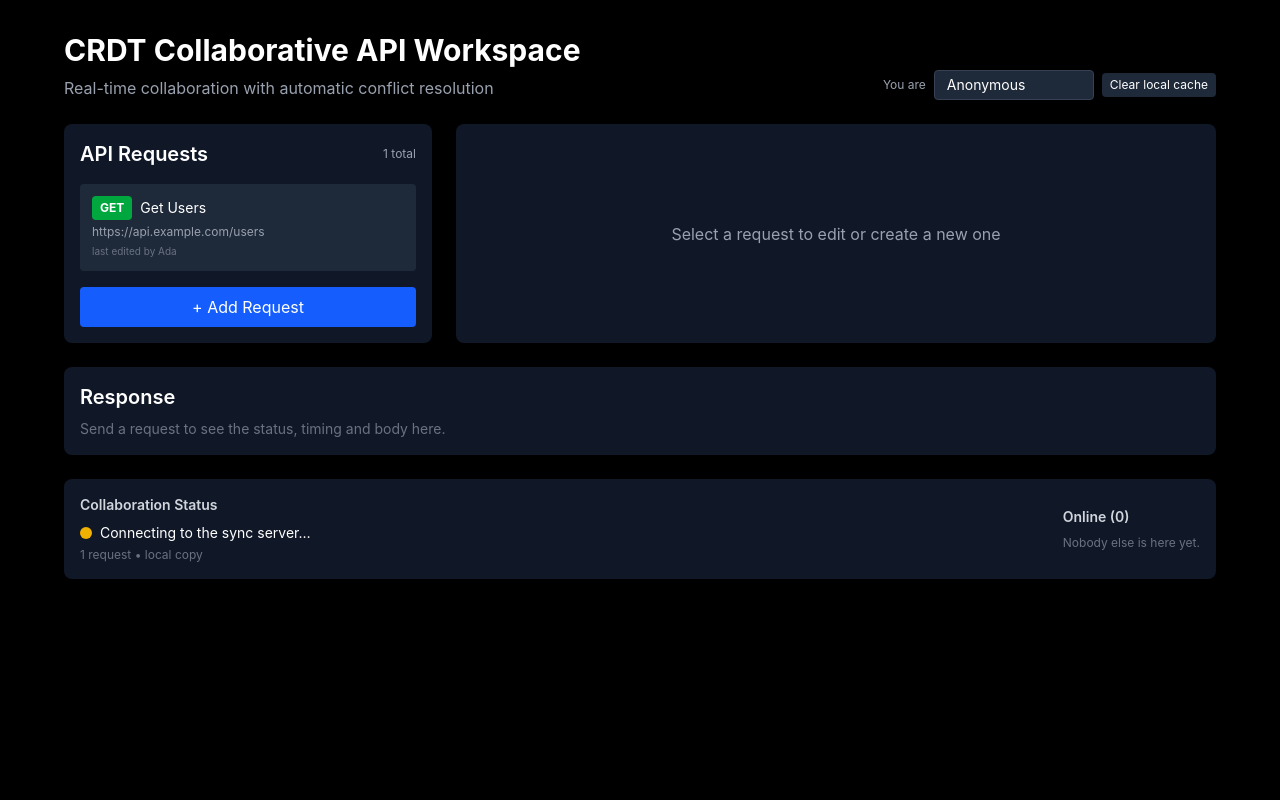
Test: App › clears the offline cache after confirmation
Click the button "Clear local cache".
click(1159, 85)  # box [1102,73,1216,97]
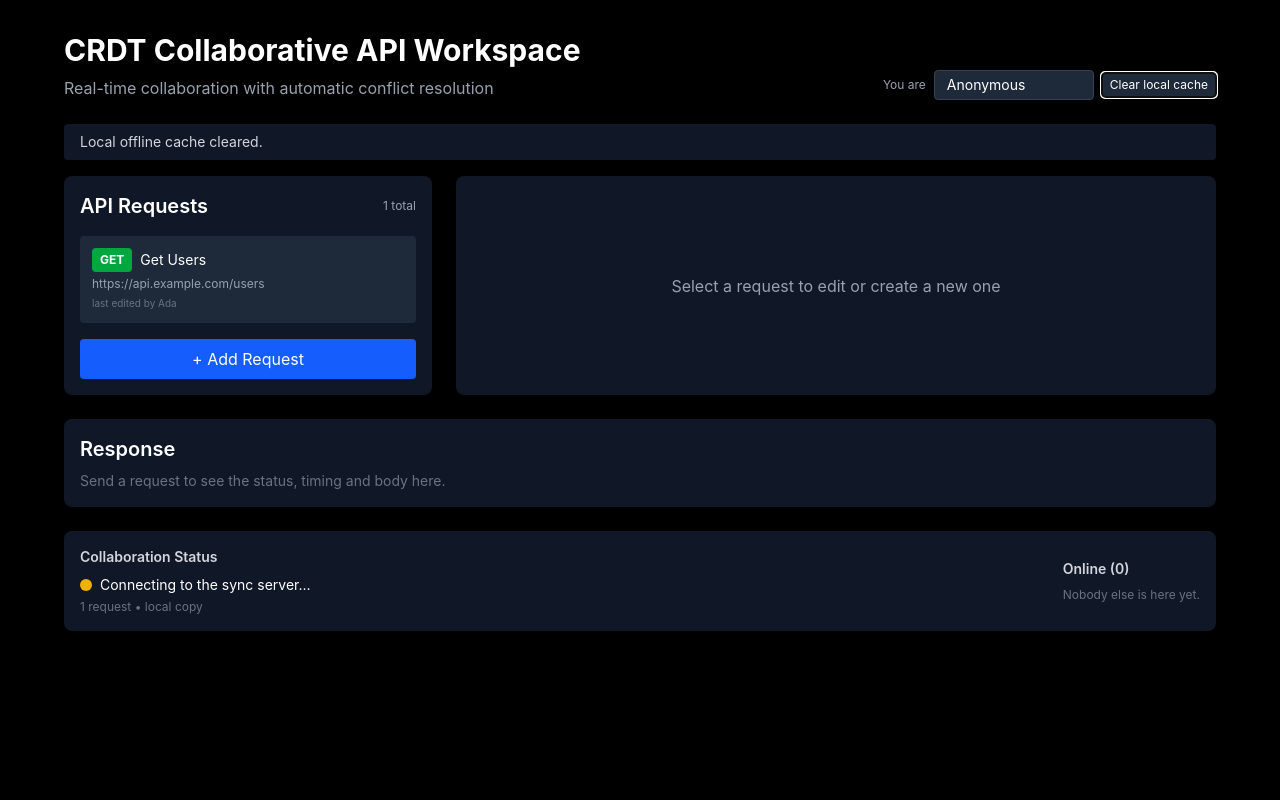
Expected: the text "Local offline cache cleared." is shown, [64,124,1216,160]
